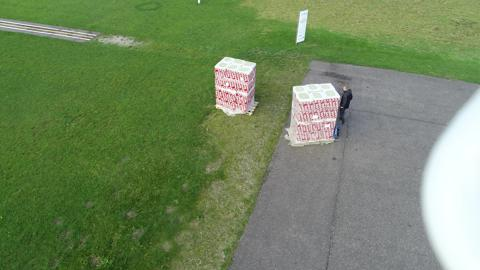RockwoolPallet: (215, 56, 258, 114)
